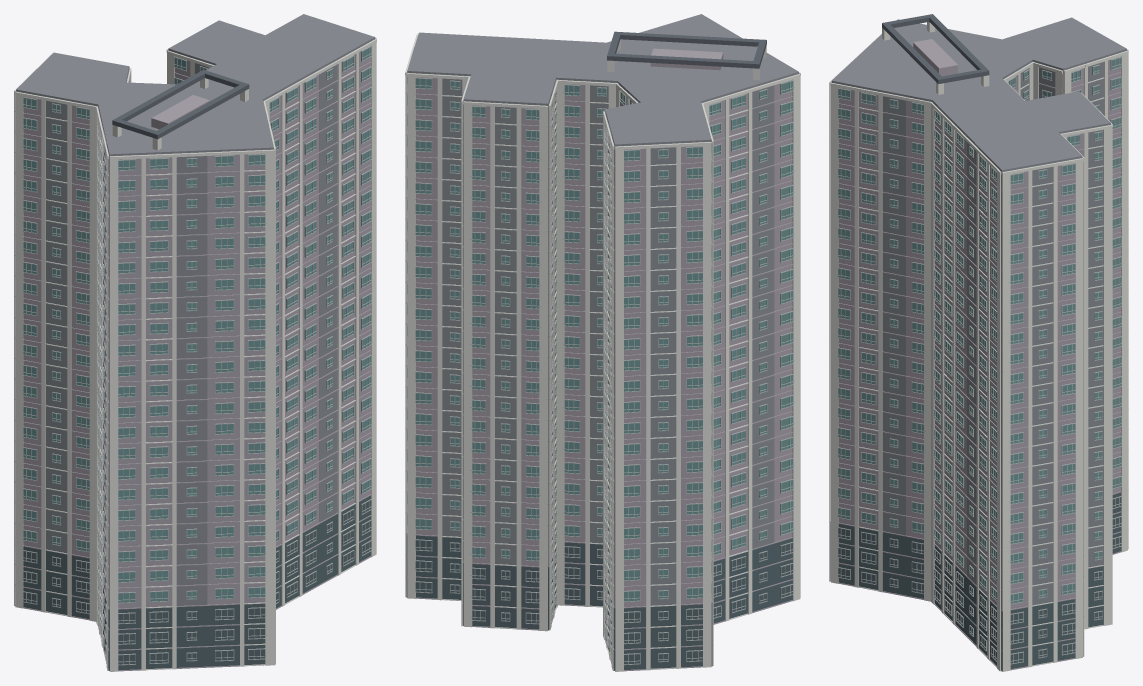
Rendered from bespoke-shinbanpo-xi-107.glb.
3 views of the same model, side by side, from view 1: azimuth 30°, elevation 25°; view 2: azimuth 150°, elevation 25°; view 3: azimuth 270°, elevation 25° (orthographic). The views are drawn at different scales.
Parts seen in each view (by area): view 1: SBX107_editable_SBX107_lavender_grey_metallic_panels, SBX107_editable_SBX107_white_vertical_frame, SBX107_editable_SBX107_grey_inset_service_walls, SBX107_editable_SBX107_pale_teal_glazing, SBX107_editable_SBX107_thin_grey_window_mullions, SBX107_editable_SBX107_dark_glazed_base, SBX107_editable_SBX107_broad_charcoal_roof_caps; view 2: SBX107_editable_SBX107_white_vertical_frame, SBX107_editable_SBX107_grey_inset_service_walls, SBX107_editable_SBX107_lavender_grey_metallic_panels, SBX107_editable_SBX107_pale_teal_glazing, SBX107_editable_SBX107_thin_grey_window_mullions, SBX107_editable_SBX107_dark_glazed_base, SBX107_editable_SBX107_broad_charcoal_roof_caps; view 3: SBX107_editable_SBX107_white_vertical_frame, SBX107_editable_SBX107_grey_inset_service_walls, SBX107_editable_SBX107_lavender_grey_metallic_panels, SBX107_editable_SBX107_thin_grey_window_mullions, SBX107_editable_SBX107_pale_teal_glazing, SBX107_editable_SBX107_dark_glazed_base, SBX107_editable_SBX107_broad_charcoal_roof_caps.
Boxes of the visible parts, left/top/right/bottom form: SBX107_editable_SBX107_lavender_grey_metallic_panels: left=14, top=39, right=374, bottom=671; SBX107_editable_SBX107_white_vertical_frame: left=14, top=38, right=376, bottom=671; SBX107_editable_SBX107_grey_inset_service_walls: left=16, top=14, right=375, bottom=605; SBX107_editable_SBX107_pale_teal_glazing: left=23, top=47, right=371, bottom=602; SBX107_editable_SBX107_thin_grey_window_mullions: left=23, top=46, right=372, bottom=665; SBX107_editable_SBX107_dark_glazed_base: left=23, top=495, right=371, bottom=670; SBX107_editable_SBX107_broad_charcoal_roof_caps: left=112, top=69, right=249, bottom=139; SBX107_editable_SBX107_white_vertical_frame: left=405, top=34, right=800, bottom=671; SBX107_editable_SBX107_grey_inset_service_walls: left=407, top=14, right=798, bottom=605; SBX107_editable_SBX107_lavender_grey_metallic_panels: left=405, top=48, right=798, bottom=671; SBX107_editable_SBX107_pale_teal_glazing: left=407, top=77, right=792, bottom=601; SBX107_editable_SBX107_thin_grey_window_mullions: left=415, top=77, right=794, bottom=665; SBX107_editable_SBX107_dark_glazed_base: left=406, top=533, right=792, bottom=670; SBX107_editable_SBX107_broad_charcoal_roof_caps: left=607, top=31, right=766, bottom=68; SBX107_editable_SBX107_white_vertical_frame: left=829, top=22, right=1128, bottom=671; SBX107_editable_SBX107_grey_inset_service_walls: left=831, top=17, right=1126, bottom=605; SBX107_editable_SBX107_lavender_grey_metallic_panels: left=832, top=39, right=1128, bottom=671; SBX107_editable_SBX107_thin_grey_window_mullions: left=836, top=56, right=1121, bottom=664; SBX107_editable_SBX107_pale_teal_glazing: left=838, top=58, right=1121, bottom=603; SBX107_editable_SBX107_dark_glazed_base: left=830, top=492, right=1121, bottom=671; SBX107_editable_SBX107_broad_charcoal_roof_caps: left=882, top=14, right=989, bottom=83.
Size of the model in its own units: 47.23 by 73.6 by 38.73.
